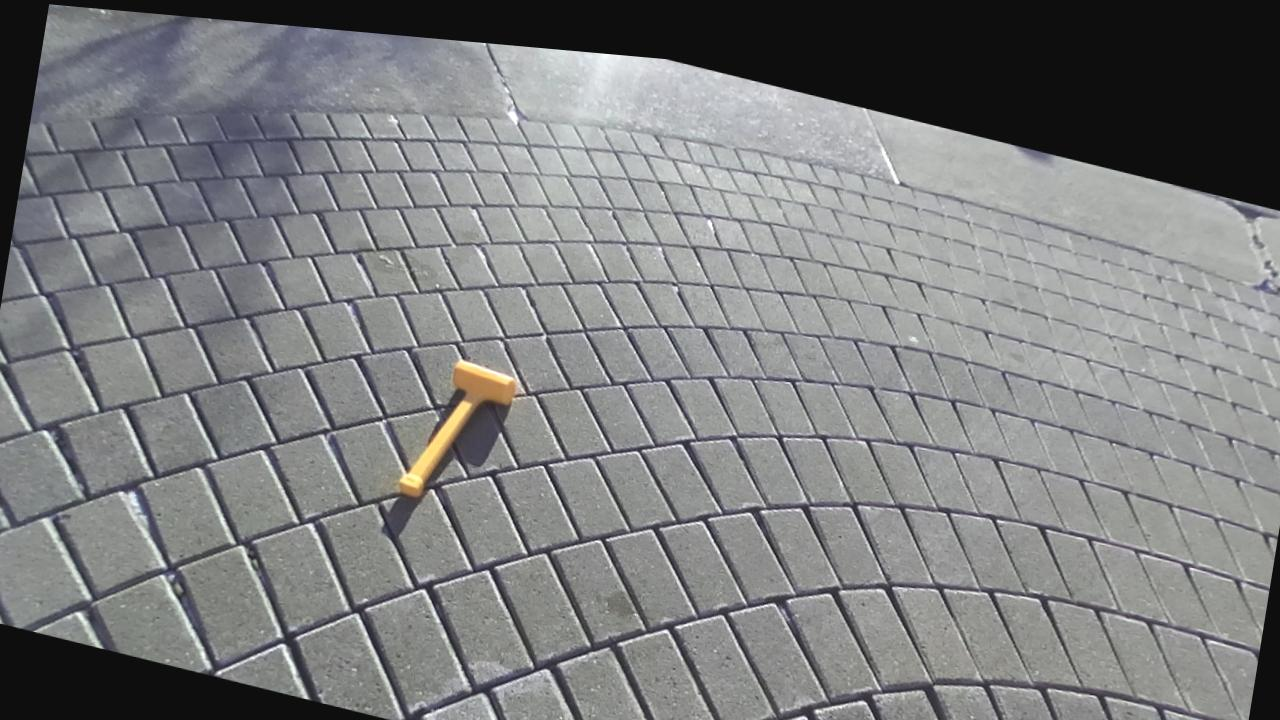mallet: (399, 359, 516, 496)
